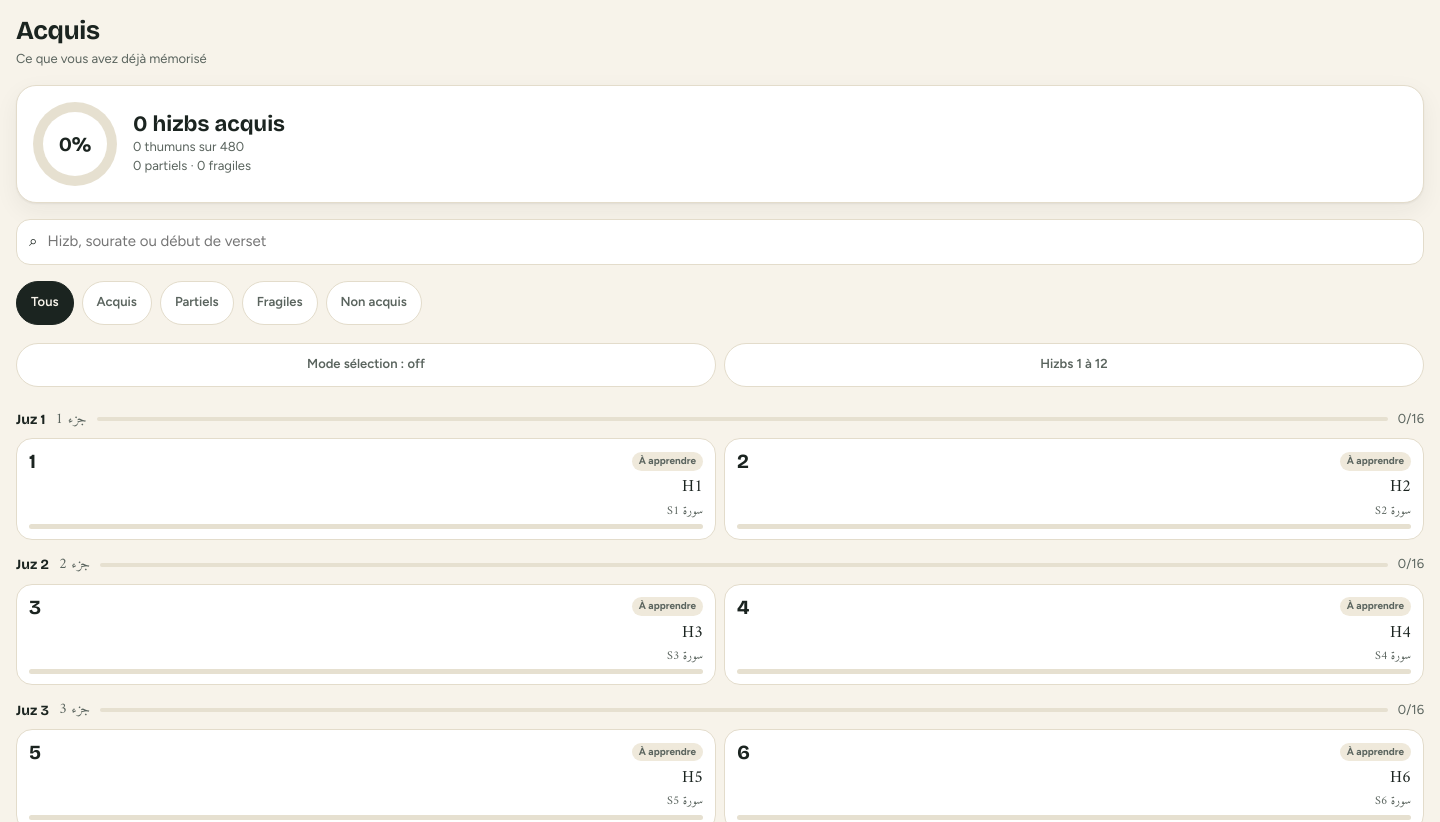
Scenario: Acquis : annulation (Ruling 25) › tap qui acquiert un hizb : toast « Annuler »
Press the mouse on the button "3 À apprendre H3 سورة S3" at (667, 607), box [16, 584, 716, 685]
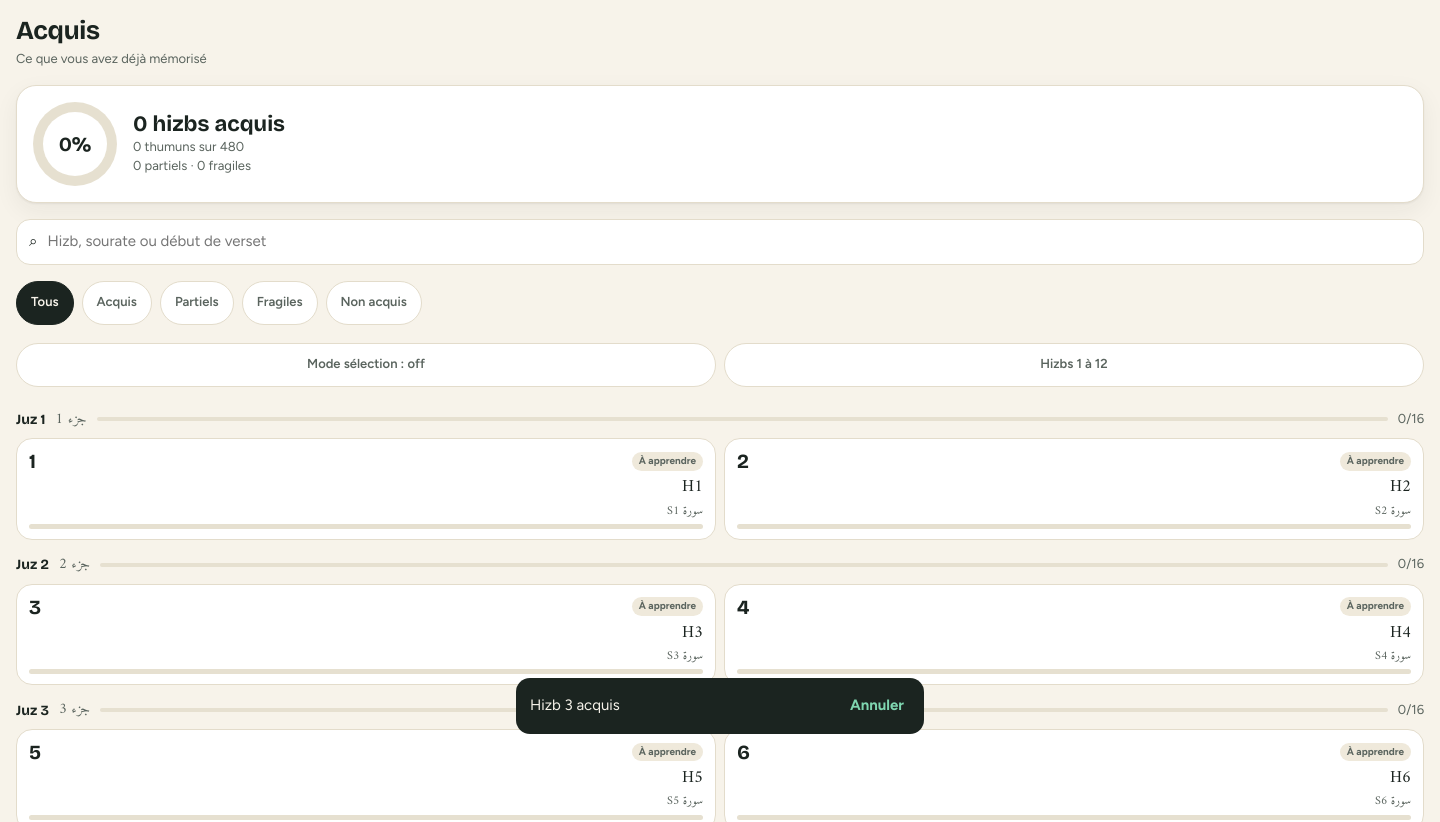
Check: the message shows "Hizb 3 acquis", box [530, 696, 620, 714]
Check: the button "Annuler" is shown, box [838, 684, 916, 728]
